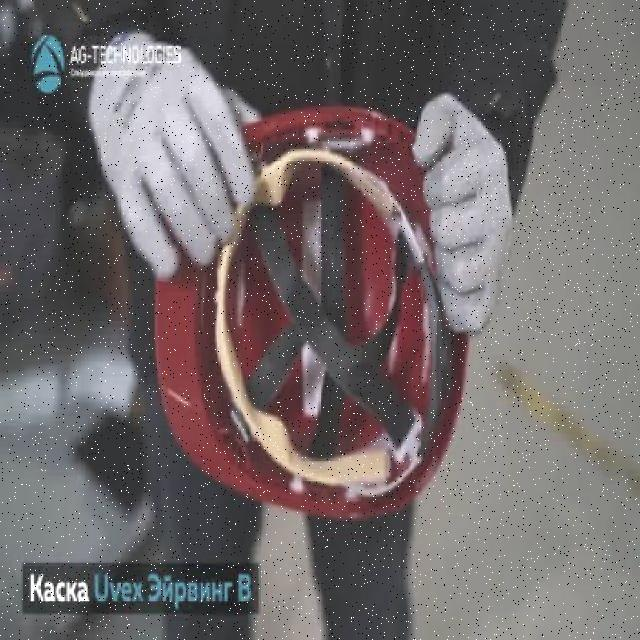Gloves: (86, 32, 262, 286), (409, 86, 514, 340)
Helmet: (153, 101, 470, 526)
